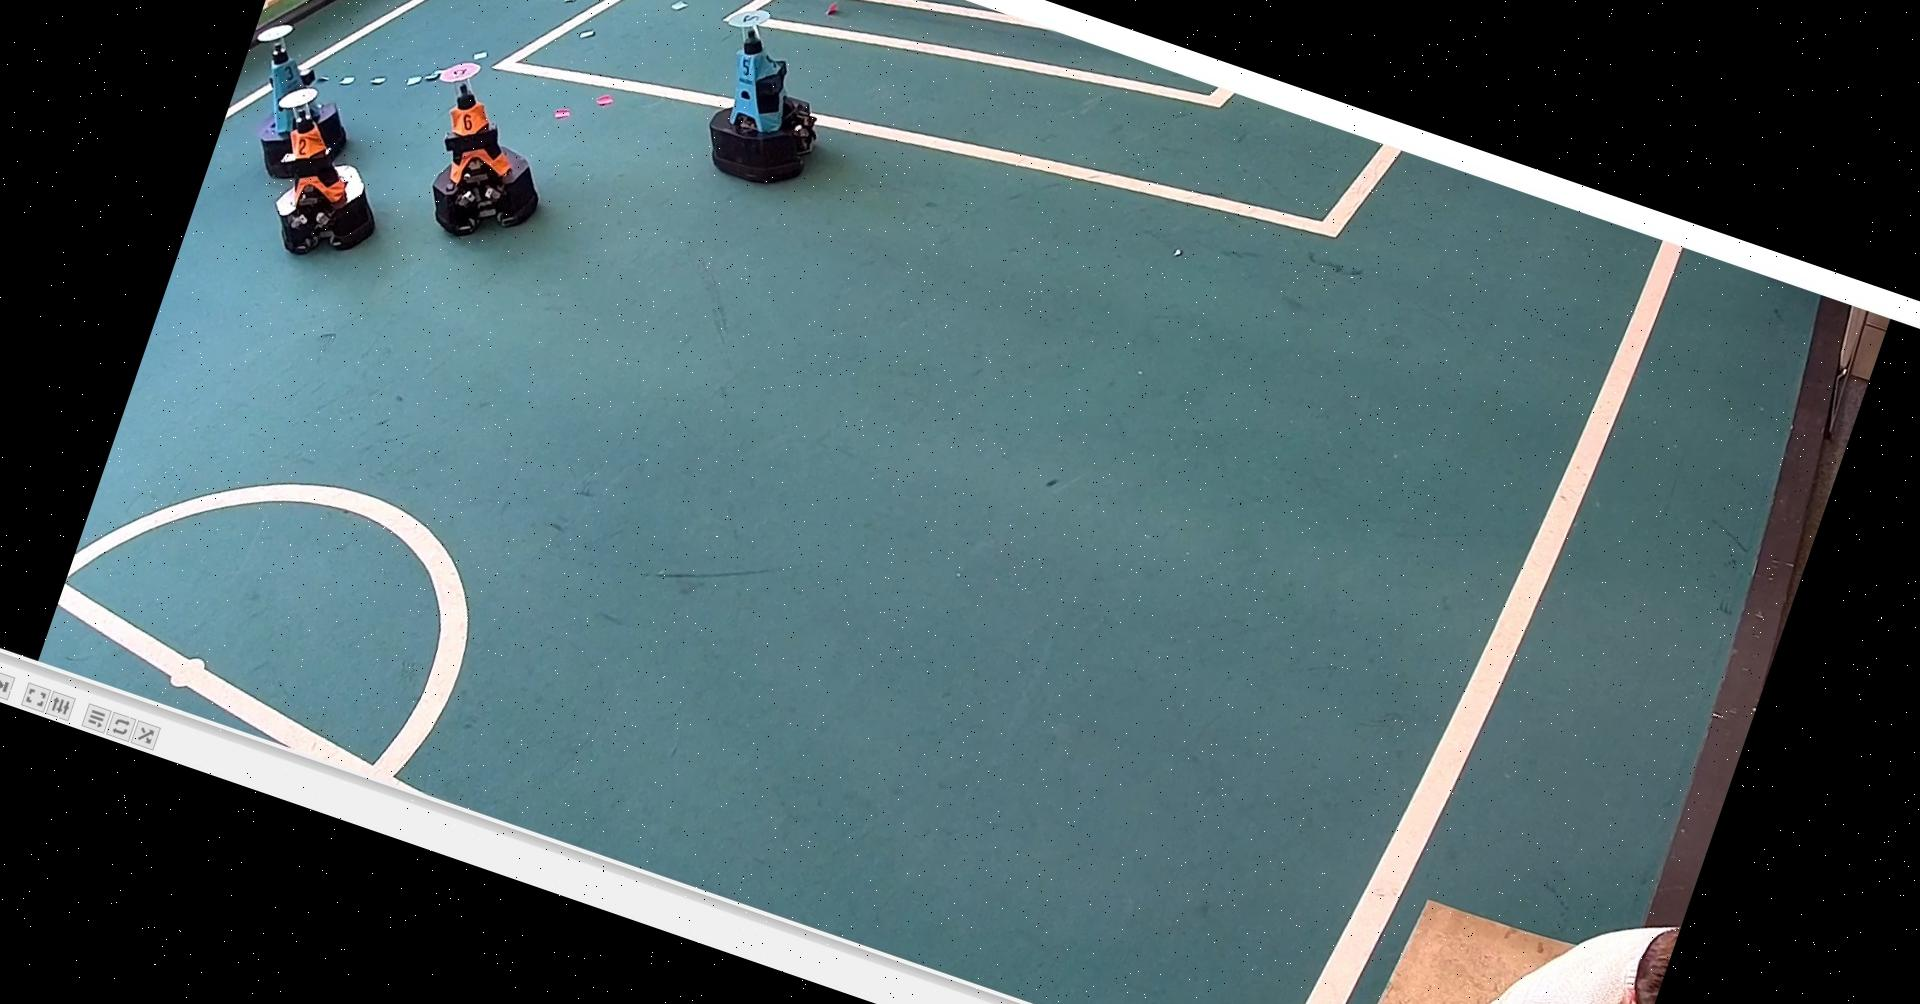Team_Blue: (676, 0, 866, 206), (232, 17, 380, 179)
Team_Red: (388, 43, 581, 258), (227, 79, 411, 278)
